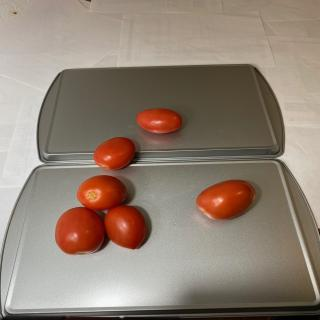Tomato: (196, 179, 256, 221), (55, 207, 105, 255), (104, 205, 147, 250), (76, 174, 128, 210), (93, 137, 136, 170), (136, 108, 182, 134)
